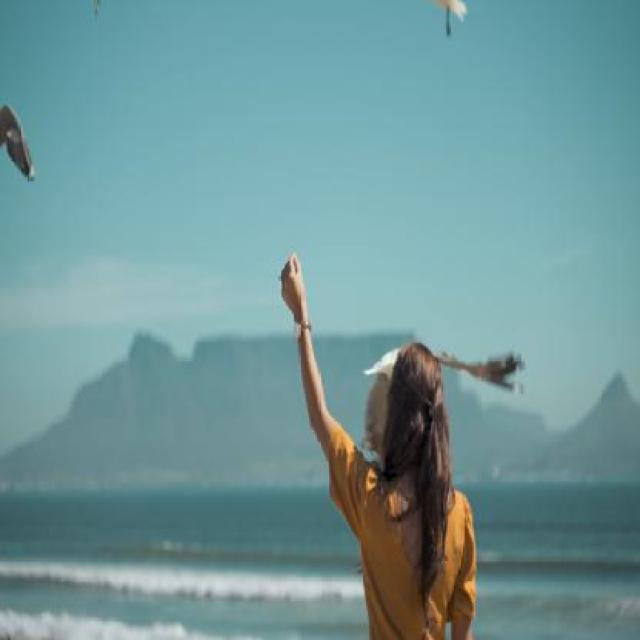bird: (1, 94, 39, 191)
